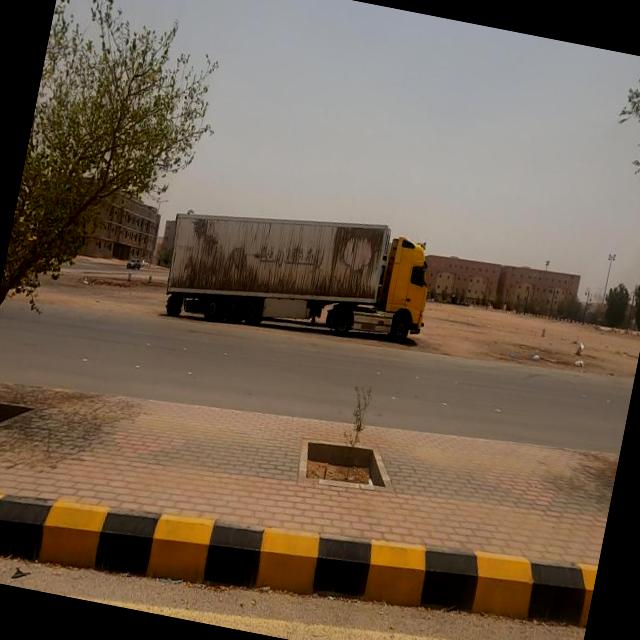debris: (539, 314, 612, 399), (350, 446, 398, 514), (490, 322, 532, 387), (512, 331, 555, 385)
